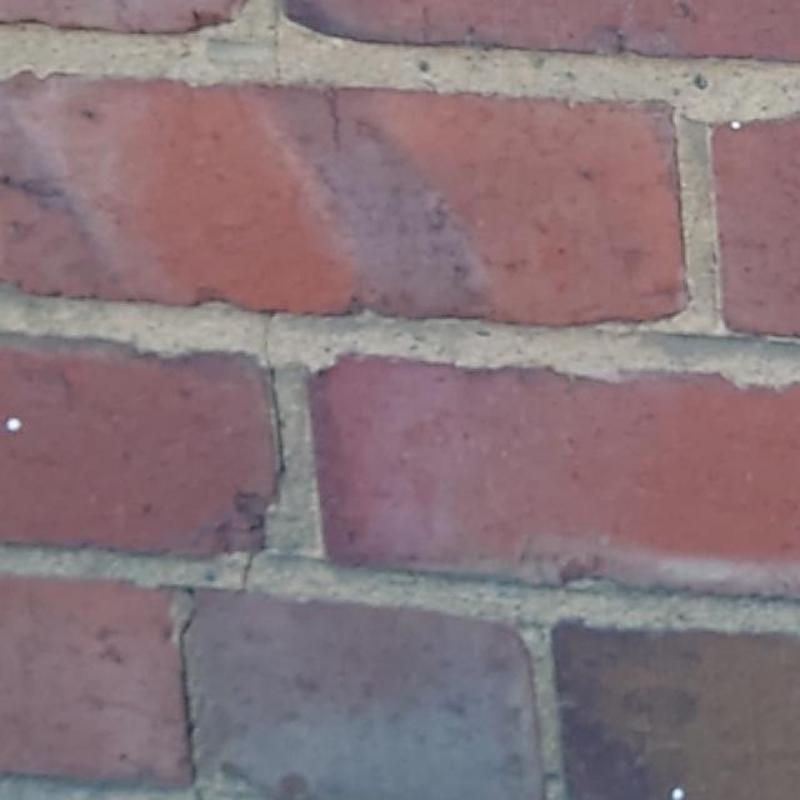crack: (176, 586, 199, 791), (270, 367, 285, 480), (243, 543, 269, 591), (331, 86, 340, 150), (265, 314, 275, 368), (275, 11, 281, 84)
